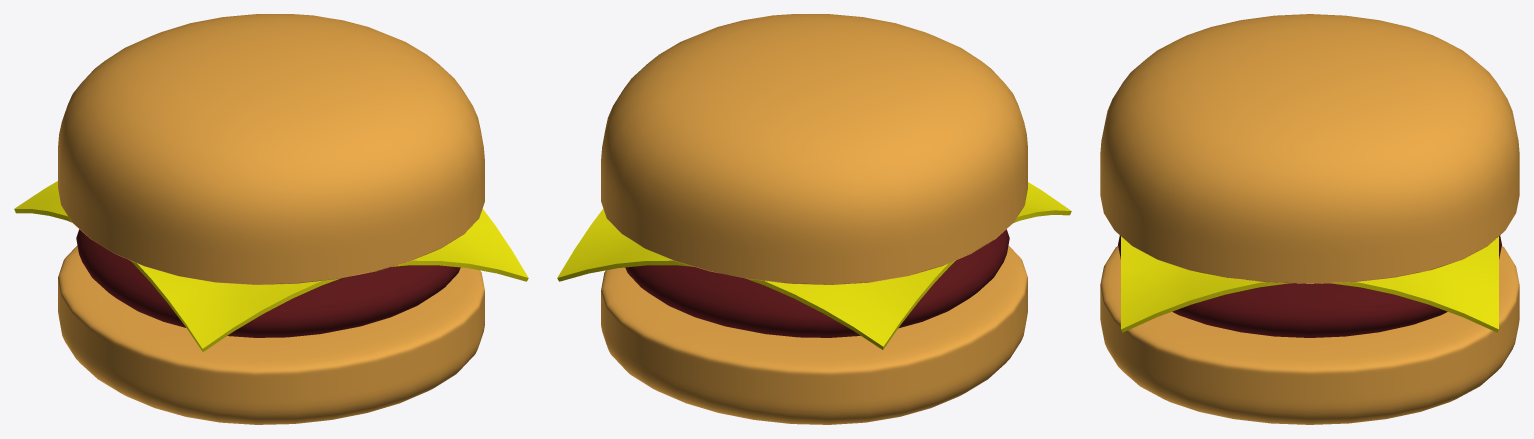
Rendered from hamburger.glb.
3 renders of one model, left to right at view 1: azimuth 30°, elevation 25°; view 2: azimuth 150°, elevation 25°; view 3: azimuth 270°, elevation 25°, orthographic.
Visible parts, largest first — view 1: Cube.002, Cube, Cube.001, Plane; view 2: Cube.002, Cube, Cube.001, Plane; view 3: Cube.002, Cube, Plane, Cube.001.
Part boxes in pixels (x1,y1,x2,y2): Cube.002: (58,14,484,284); Cube: (58,245,484,424); Cube.001: (76,229,460,337); Plane: (14,181,528,351); Cube.002: (601,14,1027,284); Cube: (601,245,1027,424); Cube.001: (625,229,1009,337); Plane: (557,182,1071,349); Cube.002: (1100,14,1519,283); Cube: (1100,246,1519,424); Plane: (1121,236,1498,332); Cube.001: (1118,235,1501,337).
Bounding box in the file's own units: 9.17 × 7.37 × 9.17.
